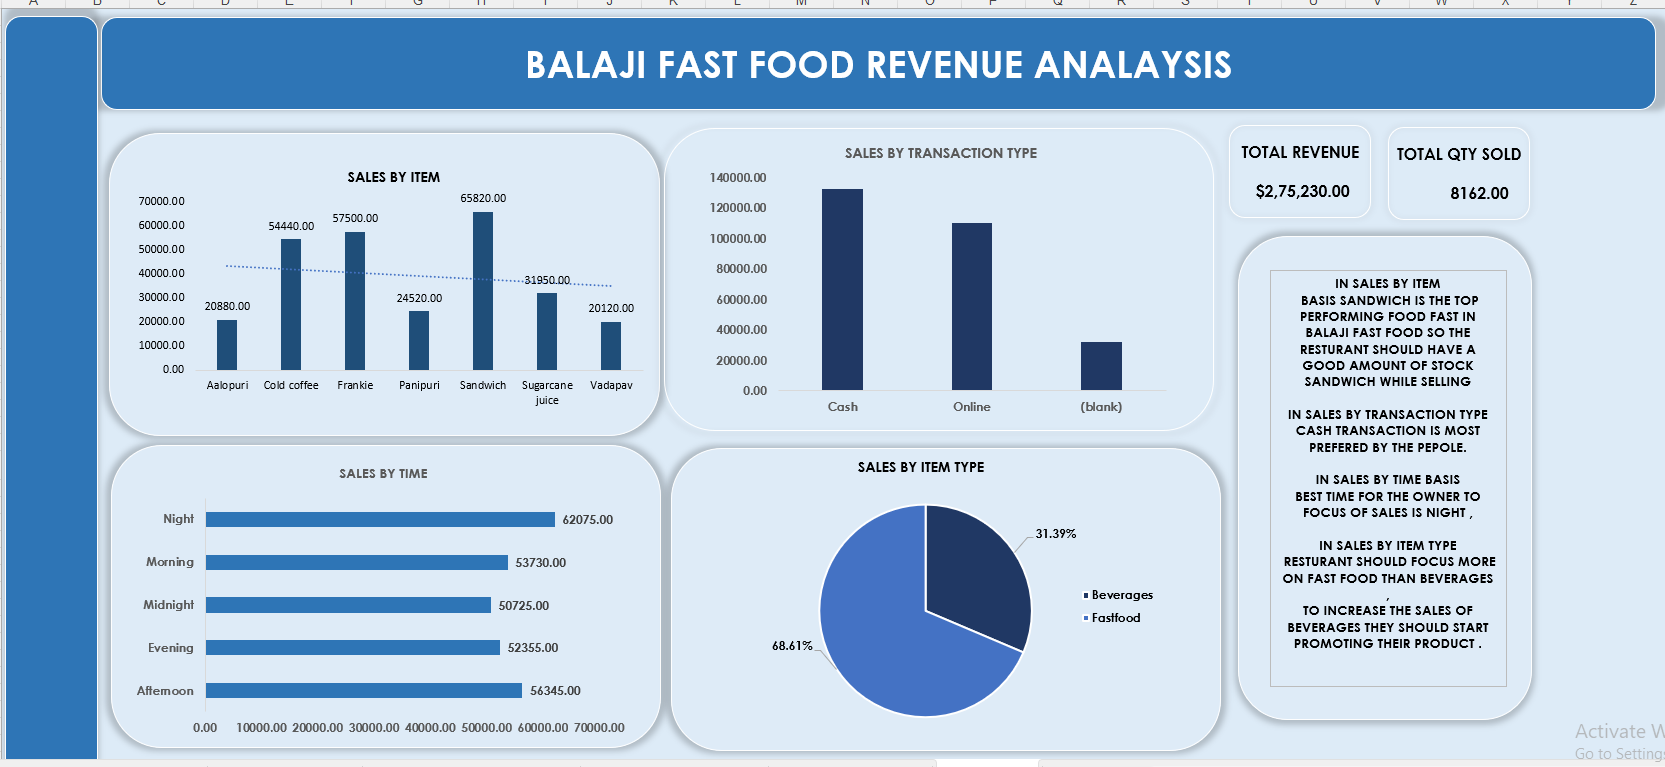

What the dashboard file says about the page in this screenshot:
{"tool":"tableau","page":{"name":"Dashboard 1","canvas":[1000,800],"ordinal":0},"visuals":[{"type":"worksheet","title":"TOTAL QUANTITY SOLD","mark":"Automatic","box":[553,26,130,99]},{"type":"text","box":[30,27,477,104]},{"type":"worksheet","title":"TOTAL REVENUE","mark":"Automatic","box":[700,29,99,95]},{"type":"legend","title":"SALES BY ITEM TYPE","param":"[federated.00th22m0jkdd5p1fgbwzv0g9wwwj].[sum:transaction_amount:qk]","box":[837,31,140,38]},{"type":"legend","title":"SALES BY ITEM TYPE","param":"[federated.00th22m0jkdd5p1fgbwzv0g9wwwj].[none:item_type:nk]","box":[837,92,140,58]},{"type":"worksheet","title":"SALES BY TIME OF SALES","mark":"Automatic","rows":["time_of_sale"],"cols":["transaction_amount"],"box":[497,160,499,348]},{"type":"worksheet","title":"SALES BY ITEM TYPE","mark":"Pie","box":[777,459,212,335]},{"type":"worksheet","title":"SALES BY TRANSACTION TYPE","mark":"Automatic","rows":["transaction_type"],"cols":["transaction_amount"],"box":[2,499,751,295]}]}

Visuals, with their boxes on the page's 1000x800 design canvas (x1, y1, x2, y2). These are canvas units, not pixel positions in the 1665x767 screenshot, which may show the page scaled, cropped or inside an application window:
"TOTAL QUANTITY SOLD" worksheet: 553:26:683:125
text: 30:27:507:131
"TOTAL REVENUE" worksheet: 700:29:799:124
"SALES BY ITEM TYPE" legend: 837:31:977:69
"SALES BY ITEM TYPE" legend: 837:92:977:150
"SALES BY TIME OF SALES" worksheet: 497:160:996:508
"SALES BY ITEM TYPE" worksheet (Pie marks): 777:459:989:794
"SALES BY TRANSACTION TYPE" worksheet: 2:499:753:794
